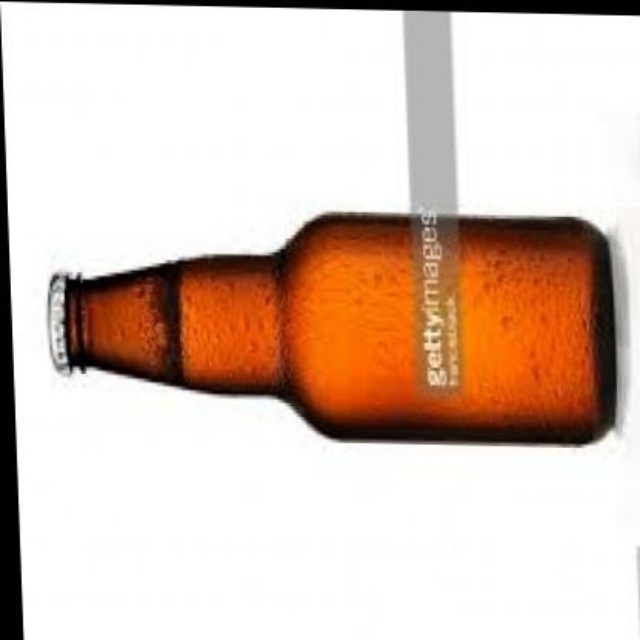trash: (49, 214, 614, 442)
